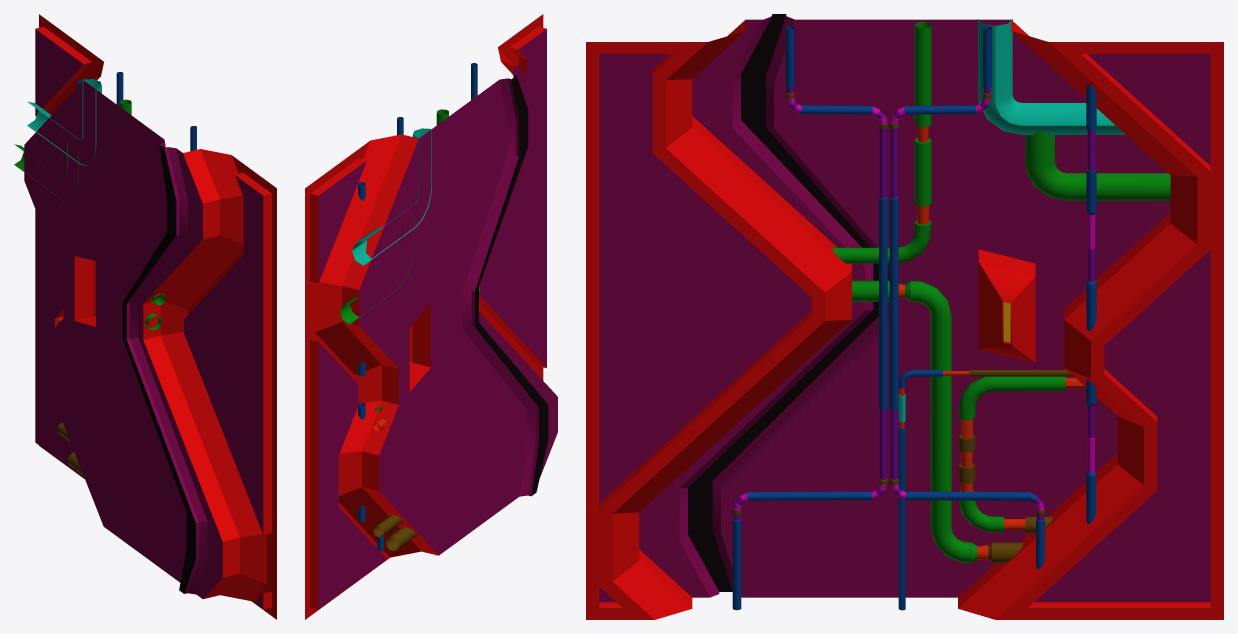
File: OBJ_5_Mur.fbx
3 views of the same model, side by side, from view 1: azimuth 30°, elevation 25°; view 2: azimuth 150°, elevation 25°; view 3: azimuth 270°, elevation 25° (orthographic). The views are drawn at different scales.
Visible parts, largest first — view 1: OBJ_5_Mur; view 2: OBJ_5_Mur; view 3: OBJ_5_Mur.
Part boxes in pixels (box(x1,y1,x2,y2)): OBJ_5_Mur: box(14, 14, 276, 619); OBJ_5_Mur: box(305, 14, 557, 619); OBJ_5_Mur: box(586, 14, 1223, 619).
Bounding box in the file's own units: 125 × 1222 × 1200.
